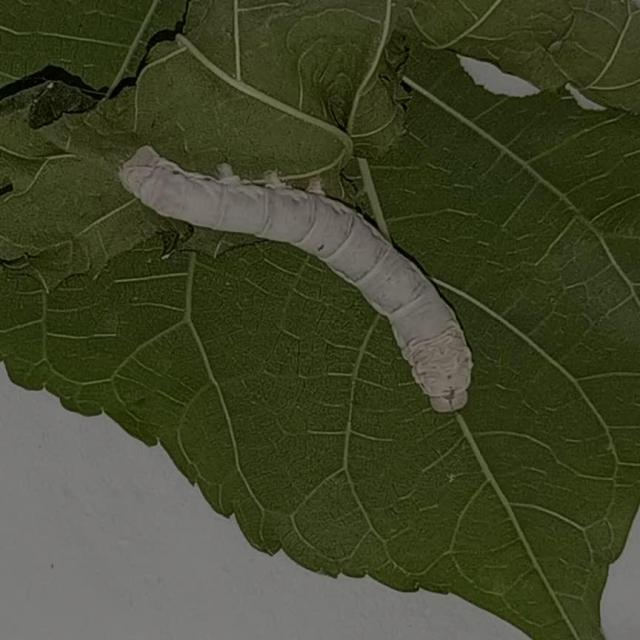Healthy: (90, 121, 506, 422)
